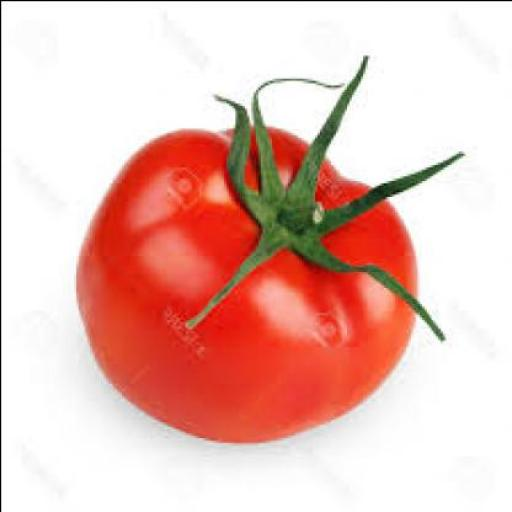biodegradable: (77, 50, 469, 440)
